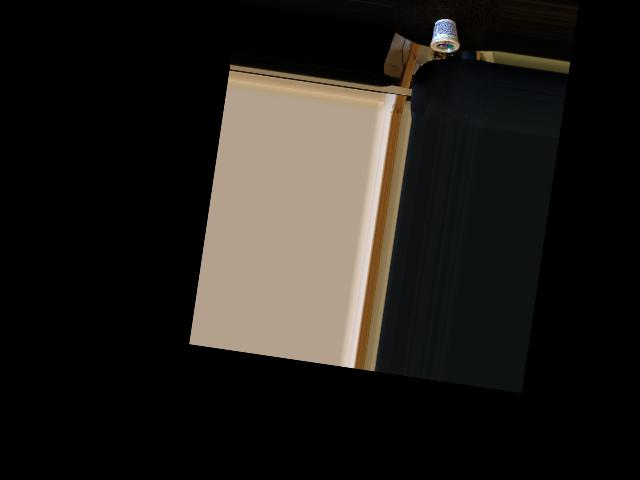cotage: (431, 17, 462, 57)
